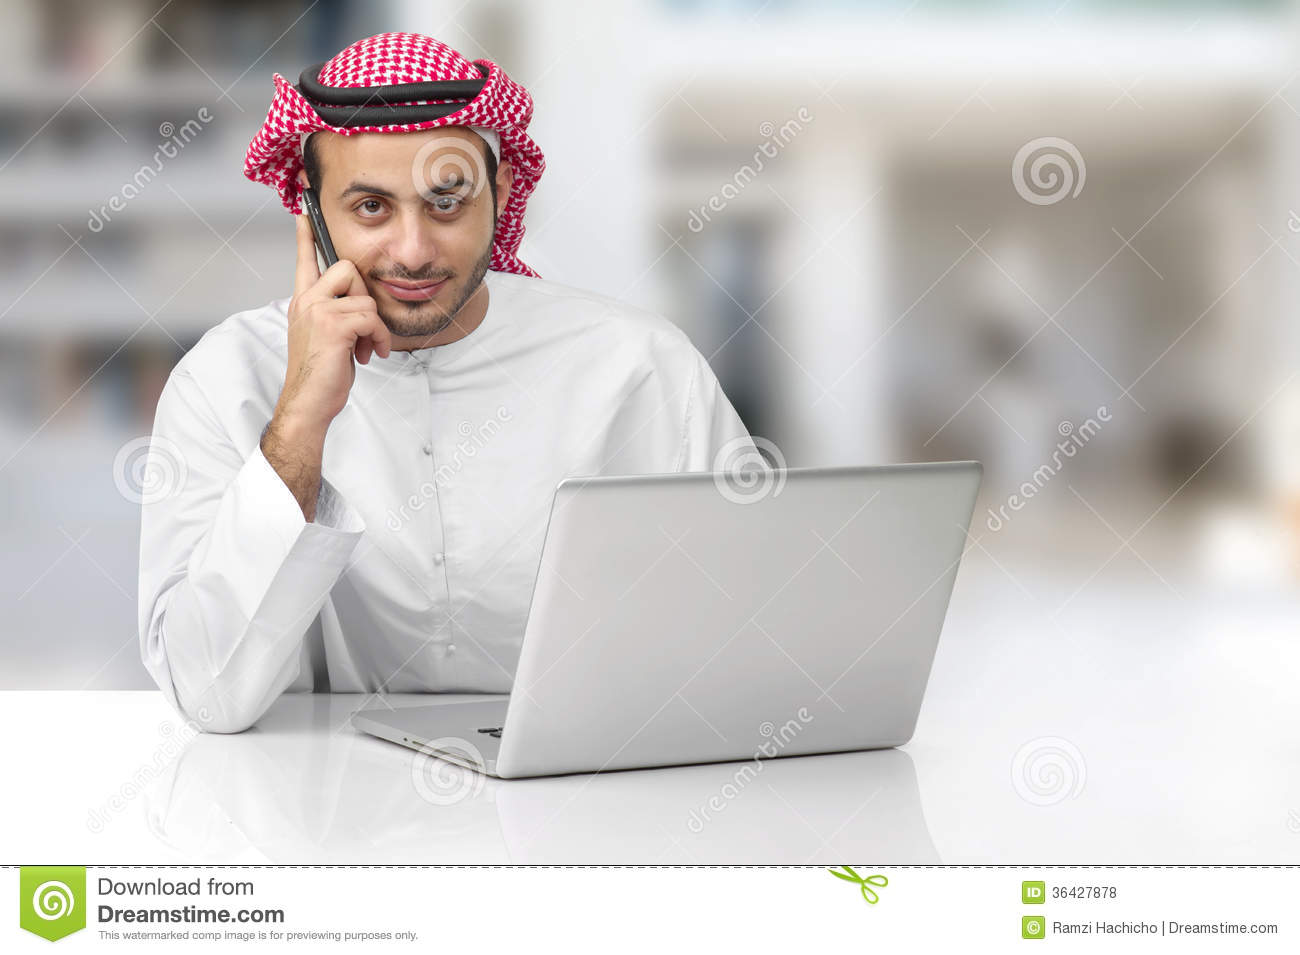phone: (302, 189, 363, 327)
talk: (287, 167, 491, 411)
